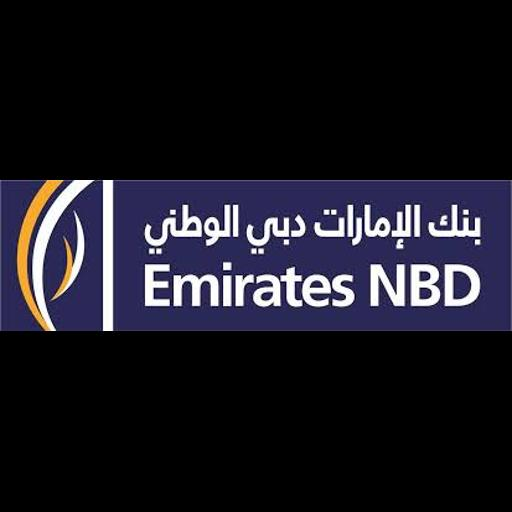Emirates NBD: (0, 180, 512, 331)
